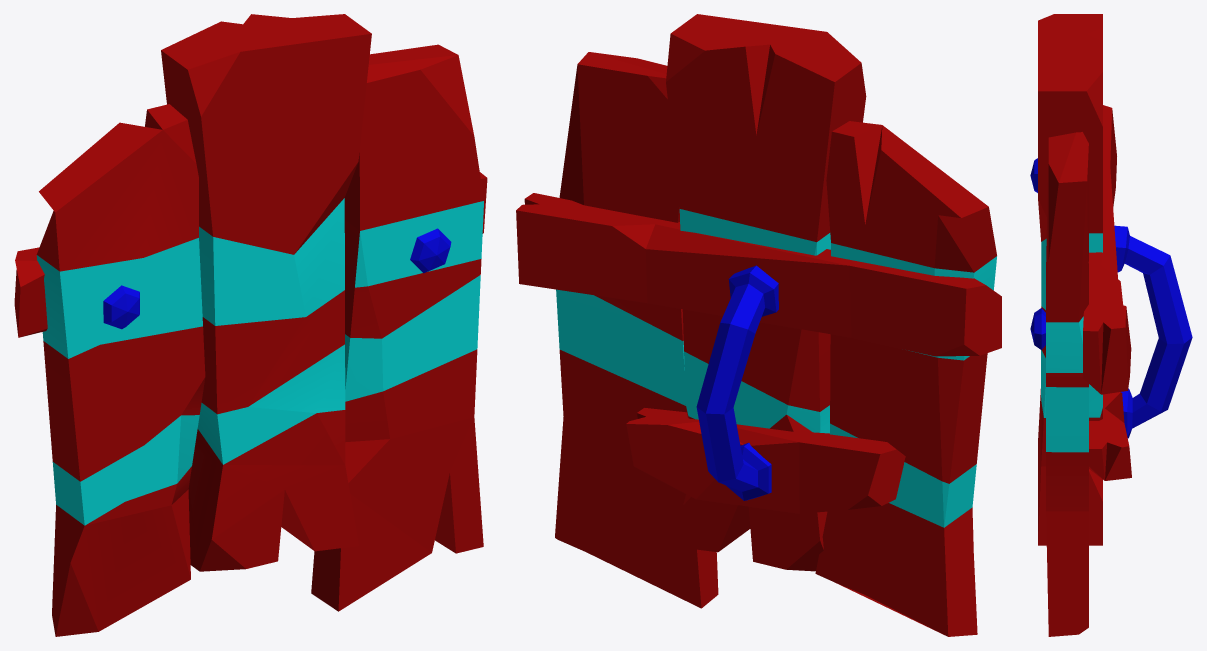
File: Shield_Uncommon_Plank.fbx
3 views of the same model, side by side, from view 1: azimuth 30°, elevation 25°; view 2: azimuth 150°, elevation 25°; view 3: azimuth 270°, elevation 25° (orthographic). The views are drawn at different scales.
Parts seen in each view (by area): view 1: SM_Wep_Shield_Plank_01; view 2: SM_Wep_Shield_Plank_01; view 3: SM_Wep_Shield_Plank_01.
Boxes of the visible parts, x1,y1,x2,y2 form: SM_Wep_Shield_Plank_01: (14,14,487,636); SM_Wep_Shield_Plank_01: (516,14,1001,636); SM_Wep_Shield_Plank_01: (1030,14,1192,636).
Bounding box in the file's own units: 0.6671 × 0.7968 × 0.2197.
